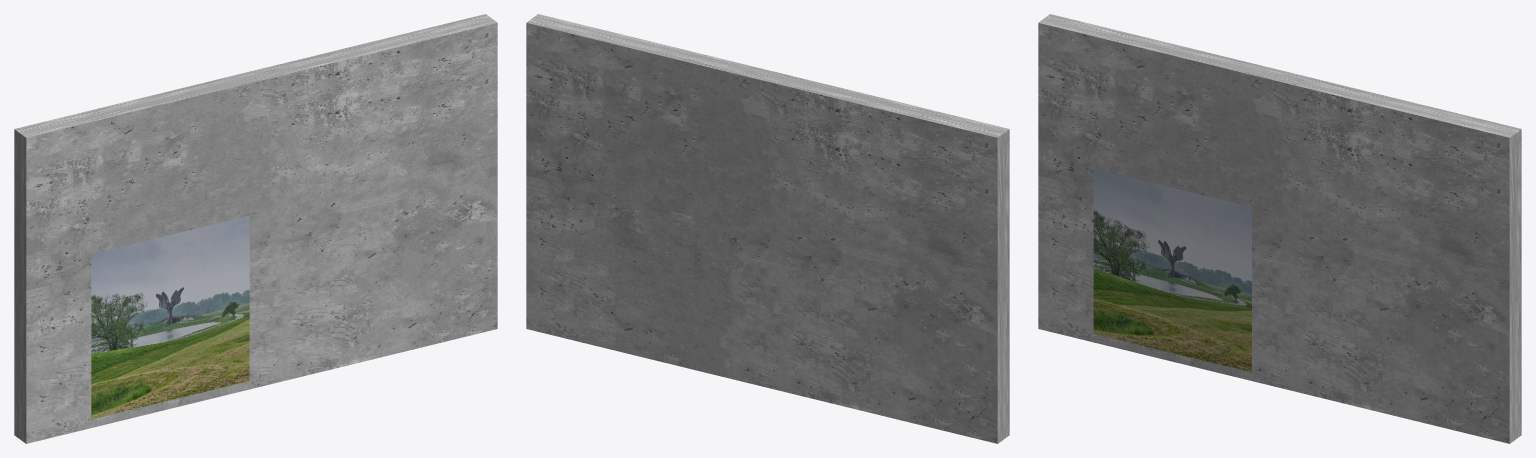
The model's file is spomenikdocumentation.glb.
The picture shows the model from 3 angles, left to right: view 1: azimuth 30°, elevation 25°; view 2: azimuth 150°, elevation 25°; view 3: azimuth 330°, elevation 25°; orthographic projection.
Parts seen in each view (by area): view 1: Cube, videotarget; view 2: Cube; view 3: Cube, videotarget.
Part boxes in pixels (bbox=[...]): Cube: bbox=[14, 14, 497, 443]; videotarget: bbox=[91, 215, 249, 419]; Cube: bbox=[526, 14, 1009, 443]; Cube: bbox=[1038, 14, 1521, 443]; videotarget: bbox=[1093, 168, 1251, 372].
Size of the model in its own units: 11.92 by 7.39 by 0.7381.
2 materials, 2 textured.
